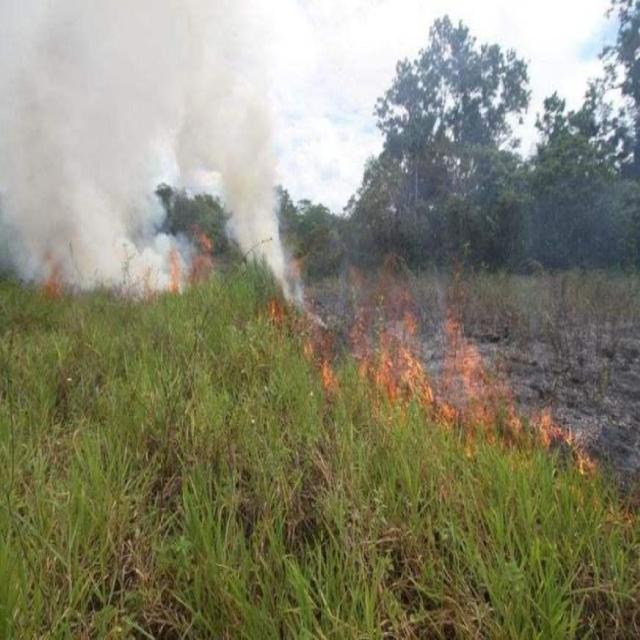Fire: (308, 292, 594, 490), (148, 231, 216, 292)
